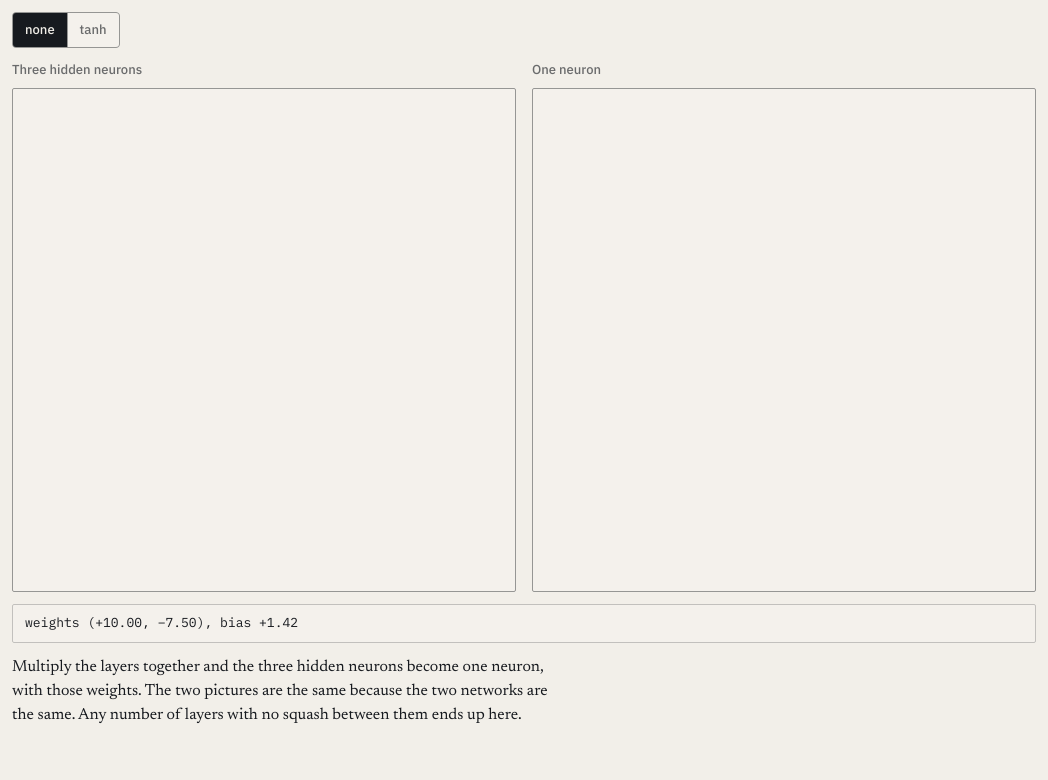
<CollapseDemo> › has nothing true to show as a single neuron once a squash is in the way
The width and height of the screenshot is (1048, 780).
Click the radio button labelled "tanh" at coordinates (93, 30), box 68,13 -> 119,47
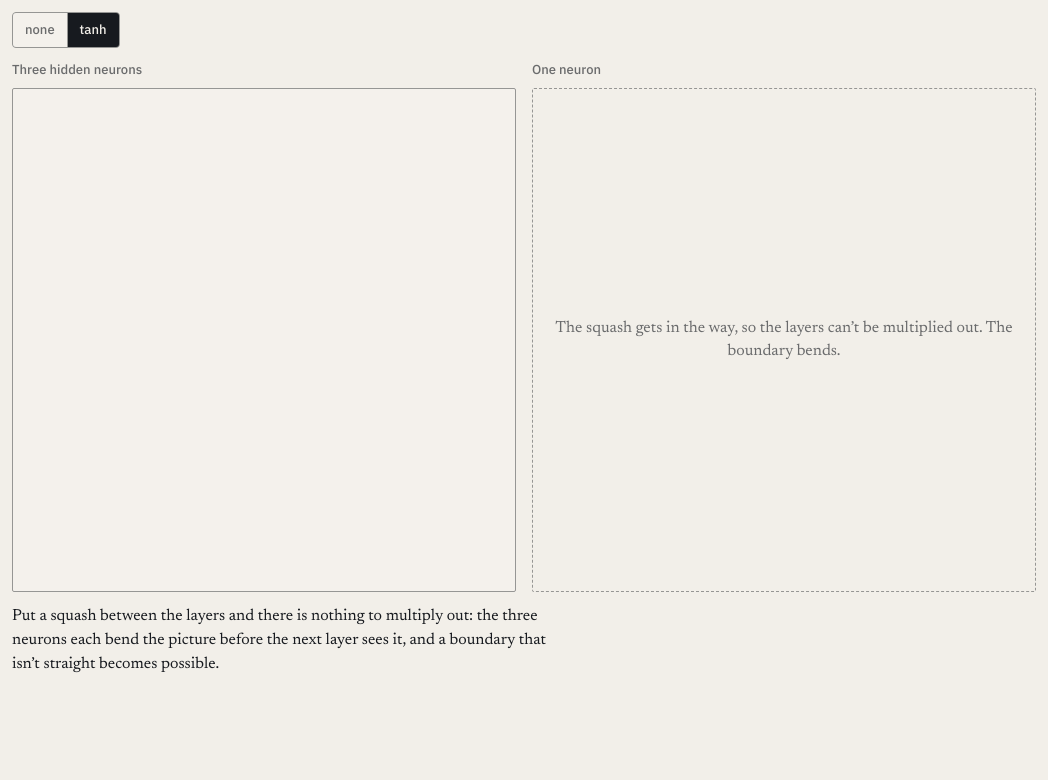
Expected: the text "weights (" is gone
Expected: the text "The squash gets in the way" is shown, 555,320 -> 1013,359
Expected: the number of pictures is 1, 13,89 -> 515,591
